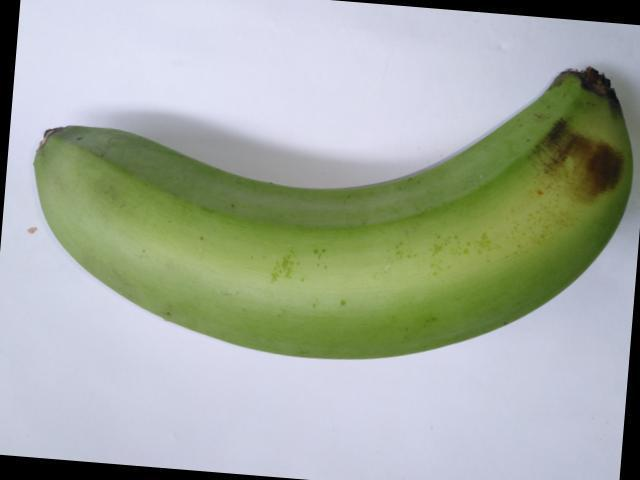freshunripe: (23, 47, 637, 373)
